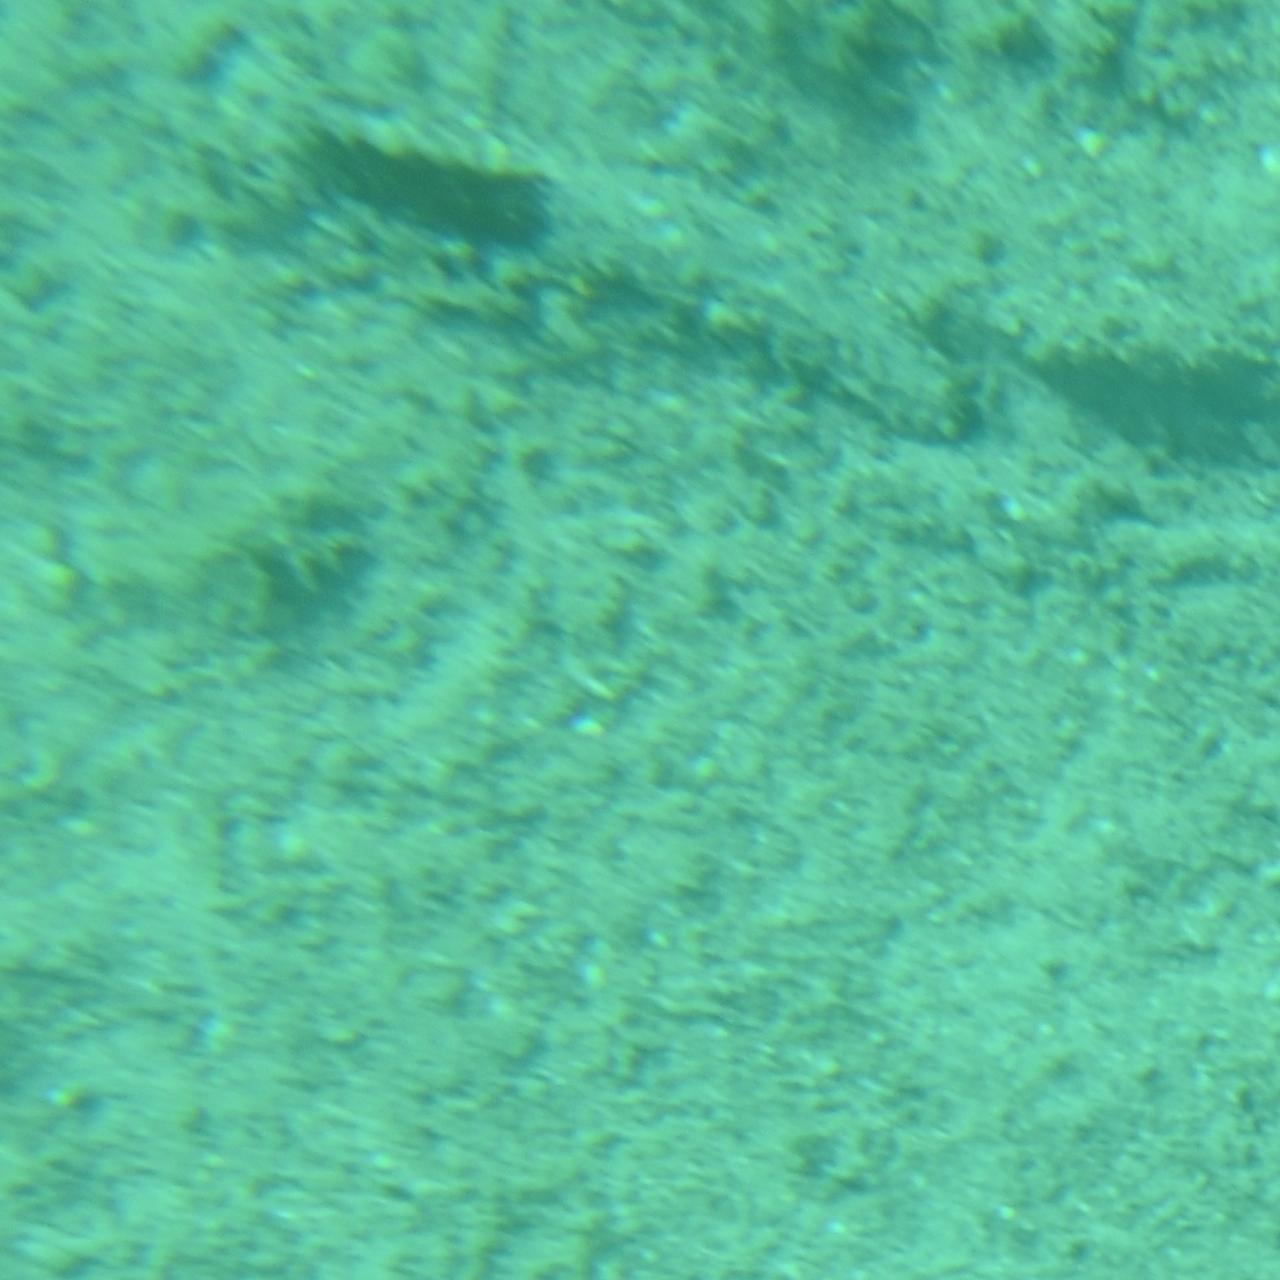Holothuria tubulosa: (293, 109, 987, 464)
